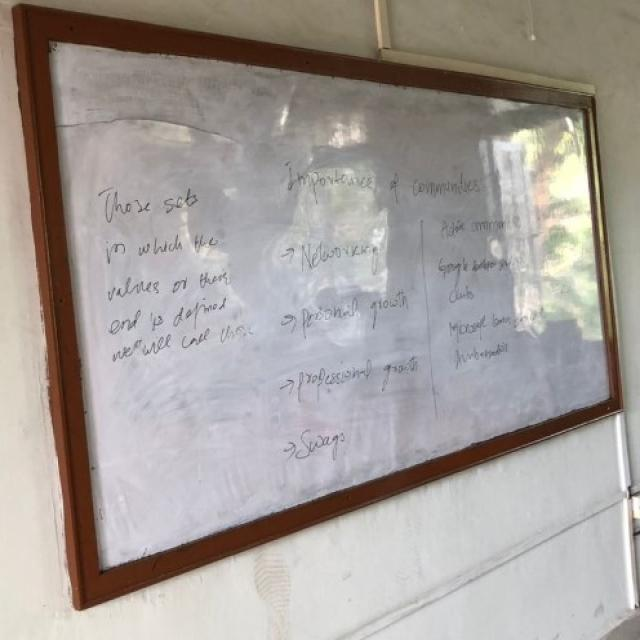White-board: (31, 27, 621, 593)
